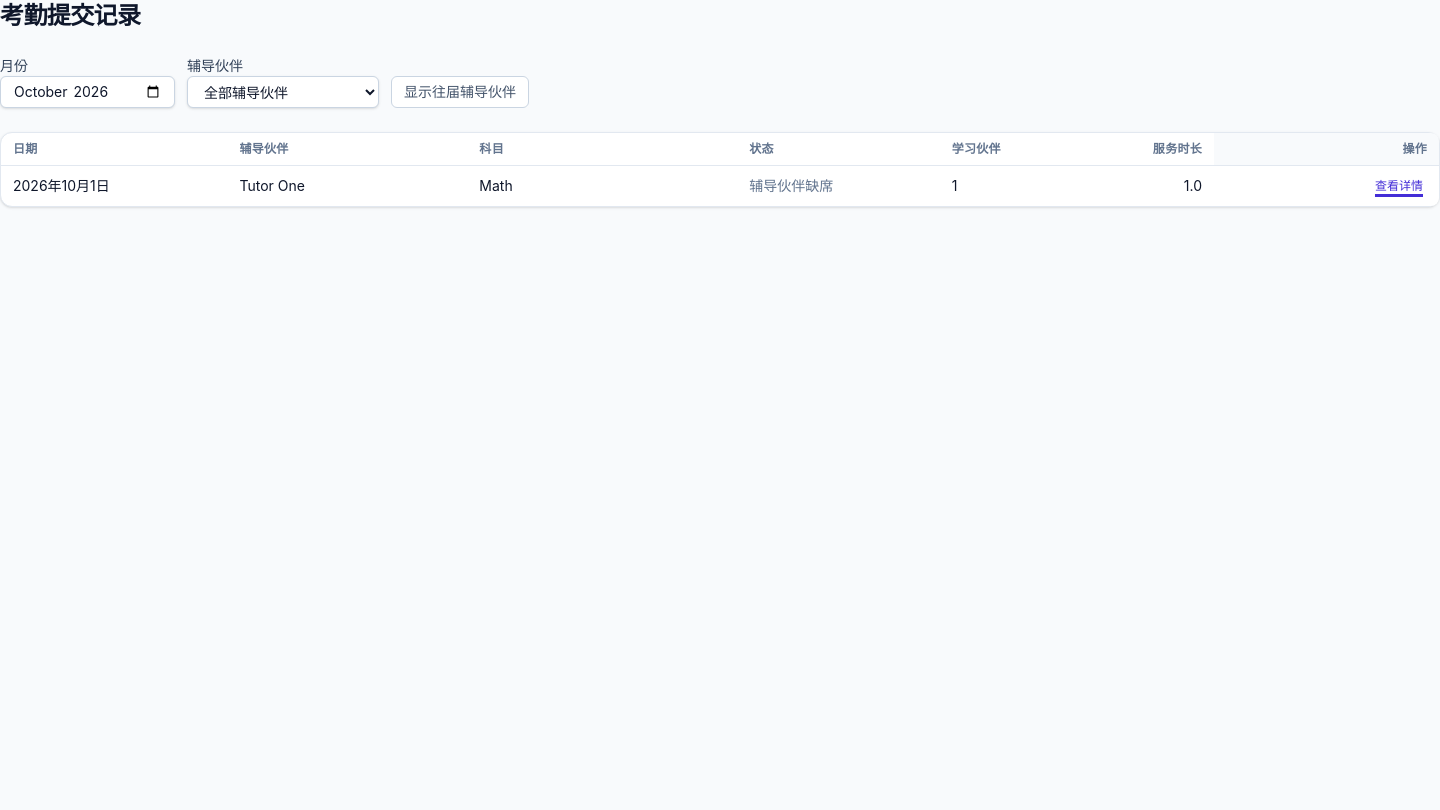
Test case: renders the attendance summary and detail from the observer projection in zh
Expected: the text "Tutor One" is shown, [227,166,467,206]
Expected: the text "Tutee One" is not shown
Click the button "查看详情".
click(1399, 186)  # box [1371,174,1427,198]
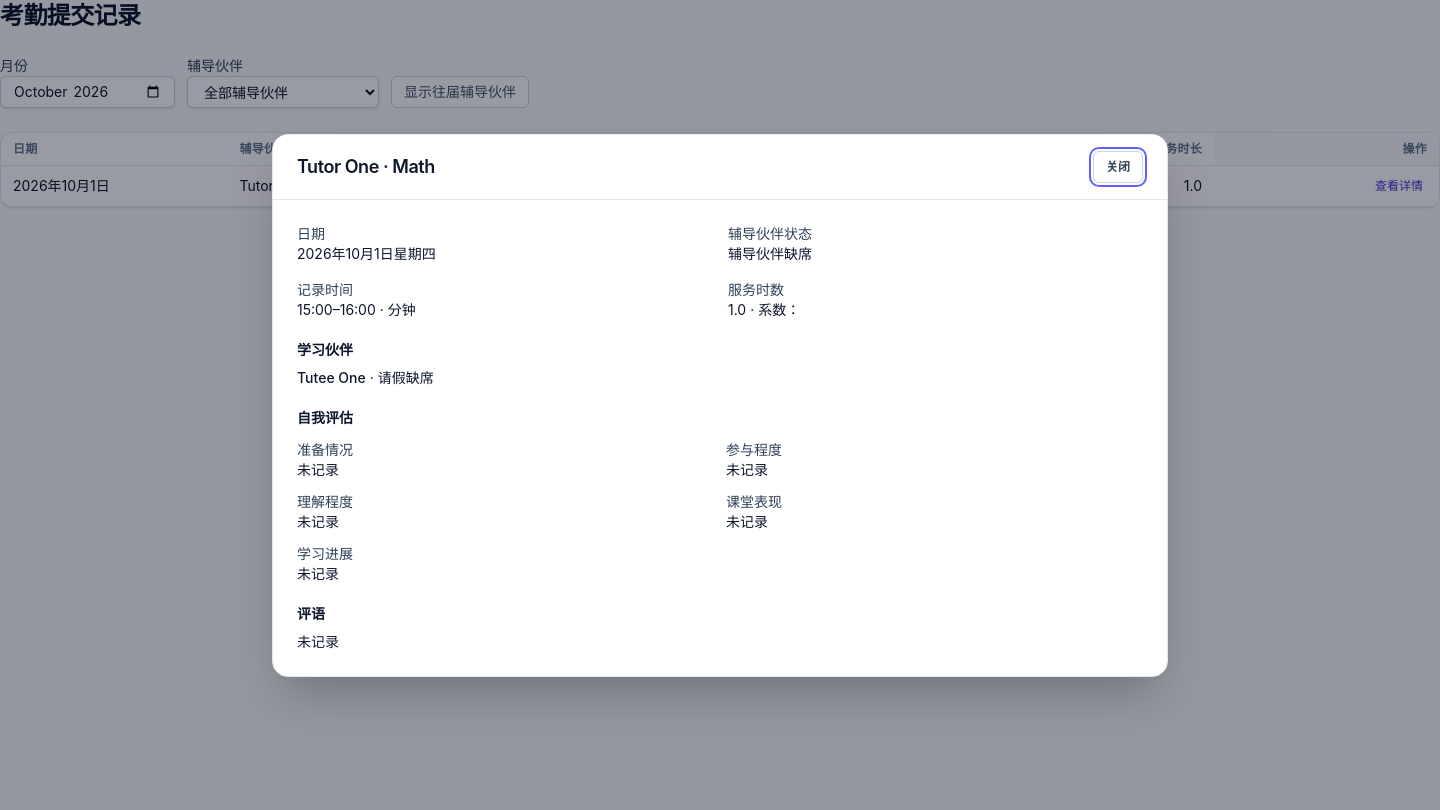
Expected: the text "Tutee One" is shown, [297,368,366,386]
Click the button "关闭".
click(1118, 166)  # box [1093,150,1143,182]
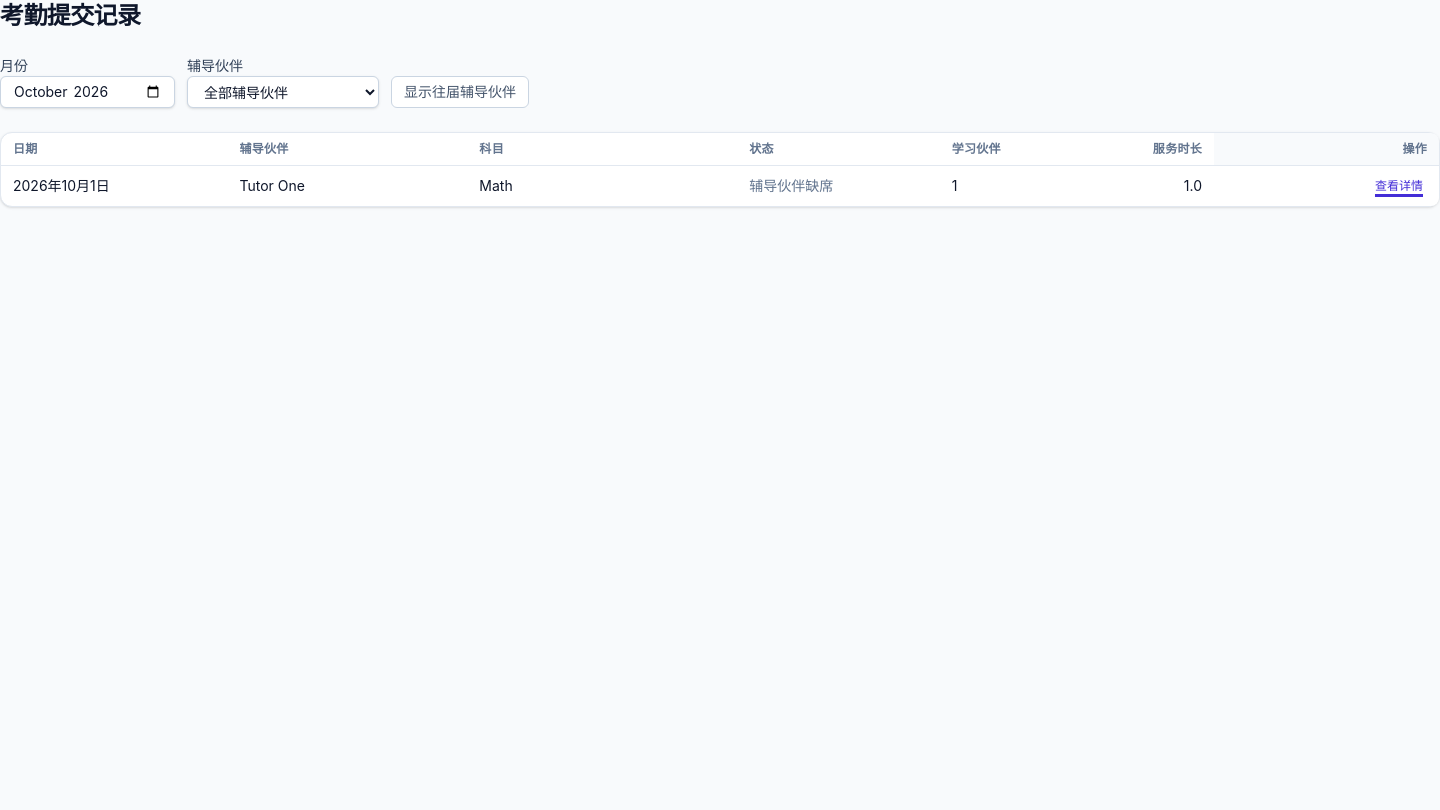
Expected: the dialog is gone
